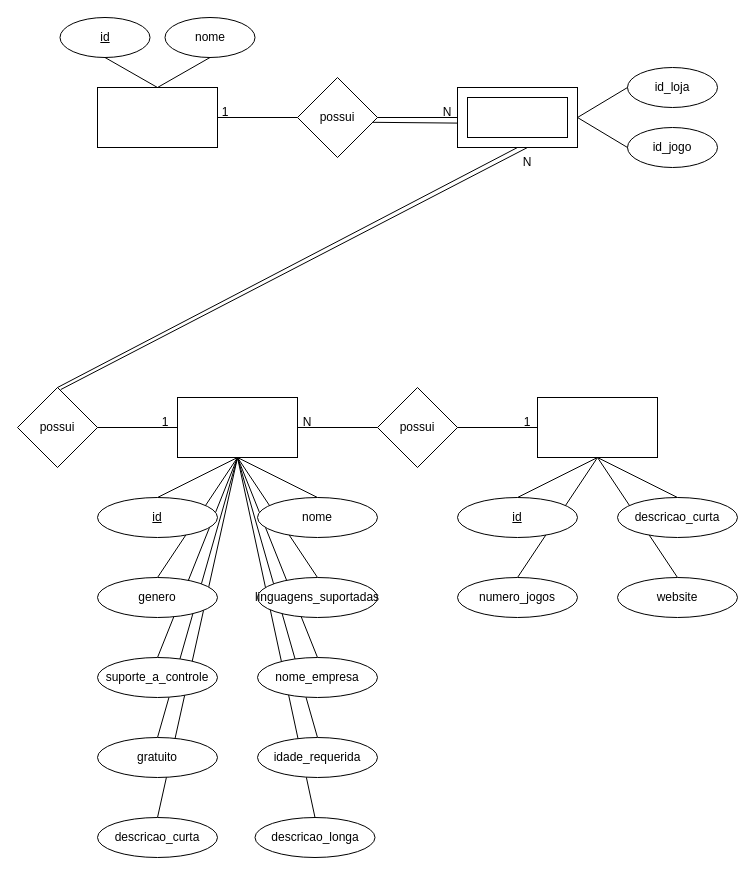
Image size: 755x875. Some labels were removed from this diagram. The shapes that lost their labels are listed below. From the top down, each one's box as (x1, y1, x2, y2) in pixels, then its label:
(96, 86, 218, 148): Loja
(466, 96, 568, 138): LojaJogos
(176, 396, 298, 458): Jogo
(536, 396, 658, 458): Empresa
